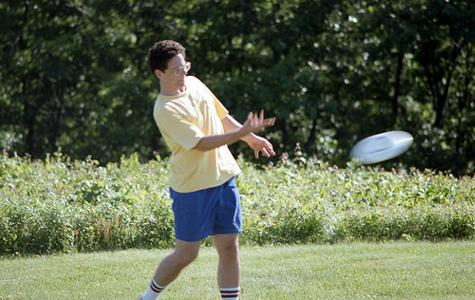person: (139, 41, 275, 300)
